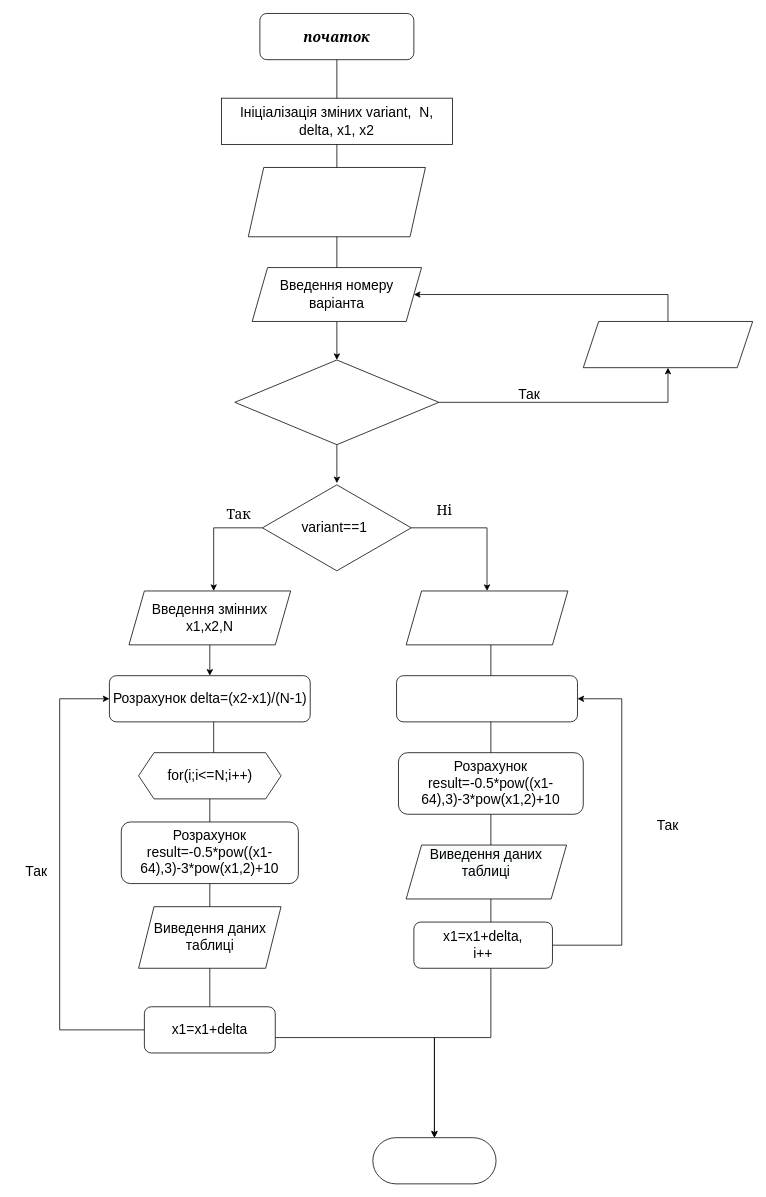
Image size: 766x1197. Some labels were removed from this diagram. The centre of each missing label's shape, as x and y in pixels:
"variant!=1 && variant!=2" belongs at point 336,402.
"while (x1<=x2)" belongs at point 487,698.
"Введення змінних x1,x2,delta" belongs at point 486,617.
"Вивід запрошення Enter variant (1 or 2)" belongs at point 336,202.
"Вивід повідомлення Error.Please try again." belongs at point 668,344.
"Кінець" belongs at point 434,1160.
